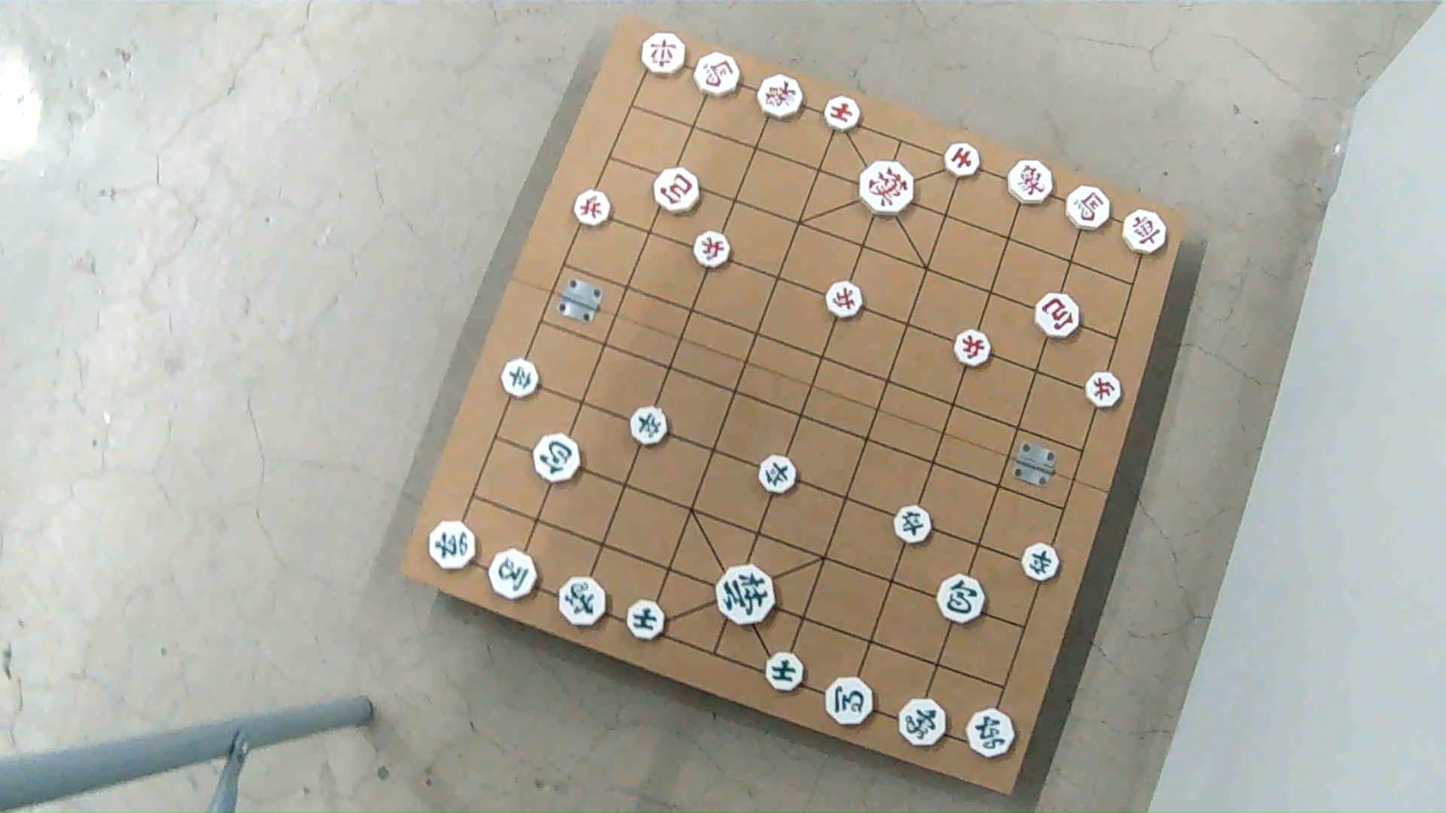cha_green: (969, 708, 1020, 757), (429, 520, 479, 569)
cha_red: (1121, 209, 1164, 253), (639, 32, 683, 75)
jol_green: (499, 357, 538, 396), (631, 408, 670, 446), (1020, 543, 1060, 580), (762, 454, 800, 492), (896, 506, 933, 544)
jol_red: (689, 235, 728, 271), (955, 330, 992, 367), (823, 279, 861, 315), (577, 192, 614, 227), (1088, 372, 1124, 407)
ma_green: (488, 551, 536, 601), (827, 677, 875, 725)
ma_red: (696, 52, 741, 95), (1069, 187, 1113, 230)
po_green: (938, 576, 984, 625), (535, 435, 581, 483)
po_red: (657, 168, 702, 213), (1033, 294, 1078, 339)
sa_green: (626, 601, 664, 641), (766, 653, 804, 693)
sa_red: (945, 144, 982, 179), (822, 95, 859, 130)
sang_green: (901, 698, 950, 746), (557, 577, 605, 626)
sang_red: (1008, 160, 1054, 204), (761, 74, 805, 117)
wang_green: (715, 564, 773, 624)
wang_red: (861, 163, 915, 216)
